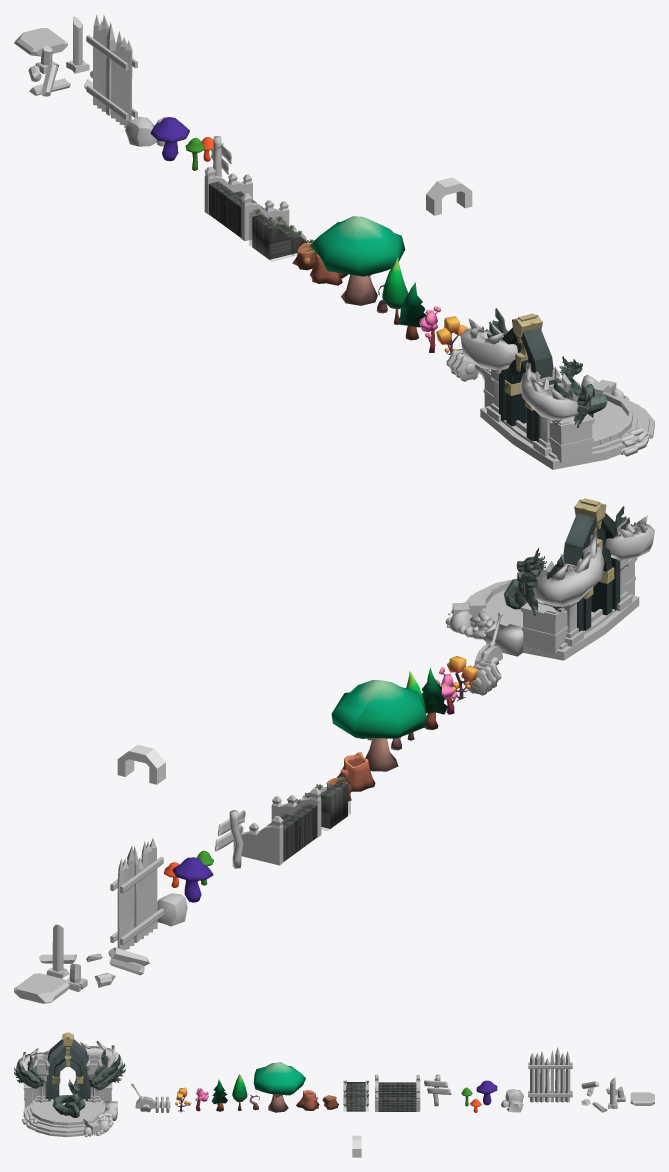
The model's file is Props general.fbx.
3 renders of one model, top to bottom at view 1: azimuth 30°, elevation 25°; view 2: azimuth 150°, elevation 25°; view 3: azimuth 270°, elevation 25°, orthographic. The views are drawn at different scales.
Parts seen in each view (by area): view 1: Circle.015, Cube.123, Cube.124, Cube.037, Cube.147, Cube.121, Cylinder.010, Cube.101, Cube.122, escalera2.001, escalera.008, Cube.014 (+10 smaller); view 2: Circle.015, Cube.123, Cube.037, Cylinder.010, Cube.124, Cube.121, Cube.101, escalera.007, Cube.147, Cube.122, Cube.001, Cube.014 (+9 smaller); view 3: Cube.123, Cube.037, Circle.015, Cube.124, Cube.122, Cube.147, Cylinder.010, Cube.019, Cylinder.002, Cube.121, Cube.125, Cube.001 (+15 smaller).
Part boxes in pixels (x1,y1,x2,y2): Circle.015: [310, 216, 405, 305]; Cube.123: [499, 313, 554, 442]; Cube.124: [480, 396, 654, 469]; Cube.037: [93, 14, 132, 127]; Cube.147: [520, 362, 591, 428]; Cube.121: [482, 369, 594, 463]; Cylinder.010: [28, 16, 92, 96]; Cube.101: [460, 328, 517, 370]; Cube.122: [487, 367, 571, 456]; escalera2.001: [252, 214, 291, 259]; escalera.008: [241, 193, 289, 240]; Cube.014: [426, 177, 472, 215]; Circle.015: [331, 680, 427, 771]; Cube.123: [563, 498, 620, 631]; Cube.037: [117, 838, 157, 950]; Cylinder.010: [39, 924, 149, 992]; Cube.124: [465, 580, 639, 660]; Cube.121: [520, 558, 637, 653]; Cube.101: [533, 545, 604, 606]; escalera.007: [233, 815, 283, 865]; Cube.147: [605, 506, 654, 560]; Cube.122: [546, 523, 634, 646]; Cube.001: [14, 973, 69, 1003]; Cube.014: [117, 745, 165, 784]; Cube.123: [45, 1032, 90, 1101]; Cube.037: [530, 1047, 570, 1102]; Circle.015: [253, 1062, 305, 1112]; Cube.124: [23, 1099, 103, 1137]; Cube.122: [33, 1054, 102, 1102]; Cube.147: [14, 1048, 49, 1088]; Cylinder.010: [581, 1077, 625, 1112]; Cube.019: [52, 1089, 85, 1117]; Cylinder.002: [296, 1090, 338, 1110]; Cube.121: [23, 1083, 112, 1107]; Cube.125: [30, 1095, 105, 1125]; Cube.001: [630, 1092, 654, 1105].
Size of the model in its own units: 3135 by 1642 by 13350.
